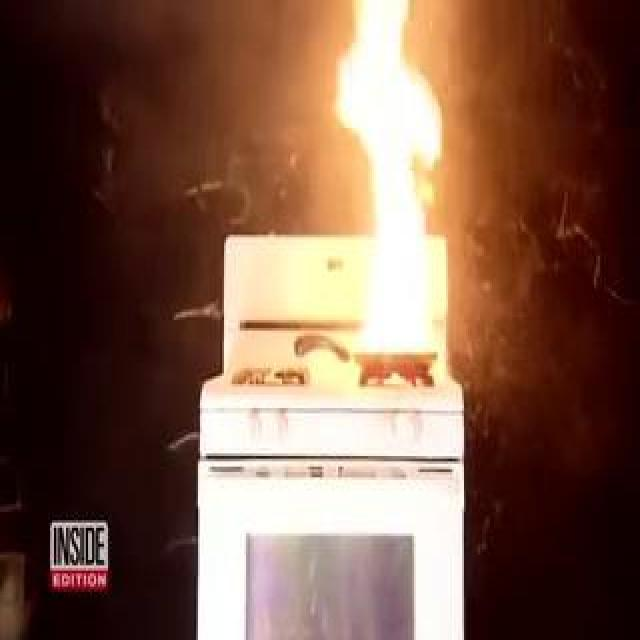Fire: (347, 3, 465, 360)
